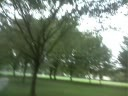window: (118, 42, 128, 60), (106, 50, 114, 69), (114, 82, 120, 96)
